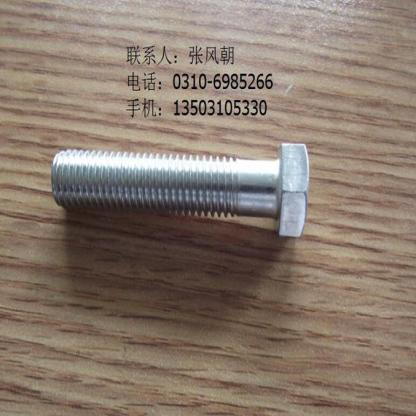FOD: (49, 140, 312, 246)
